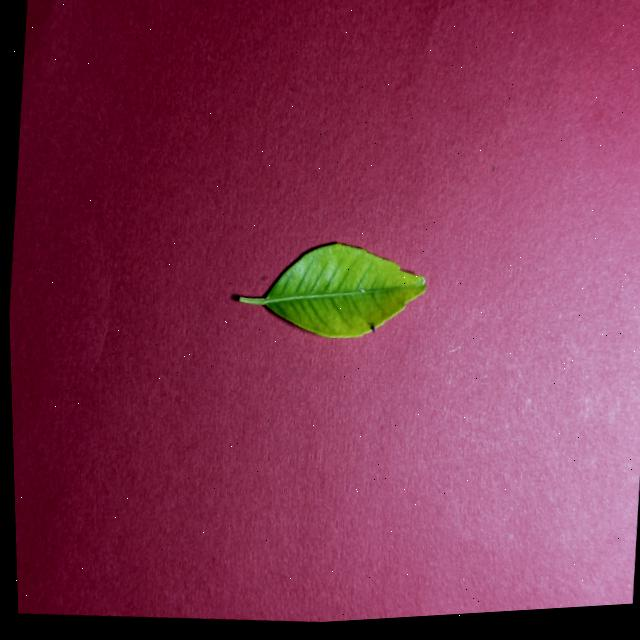greening: (239, 242, 425, 336)
